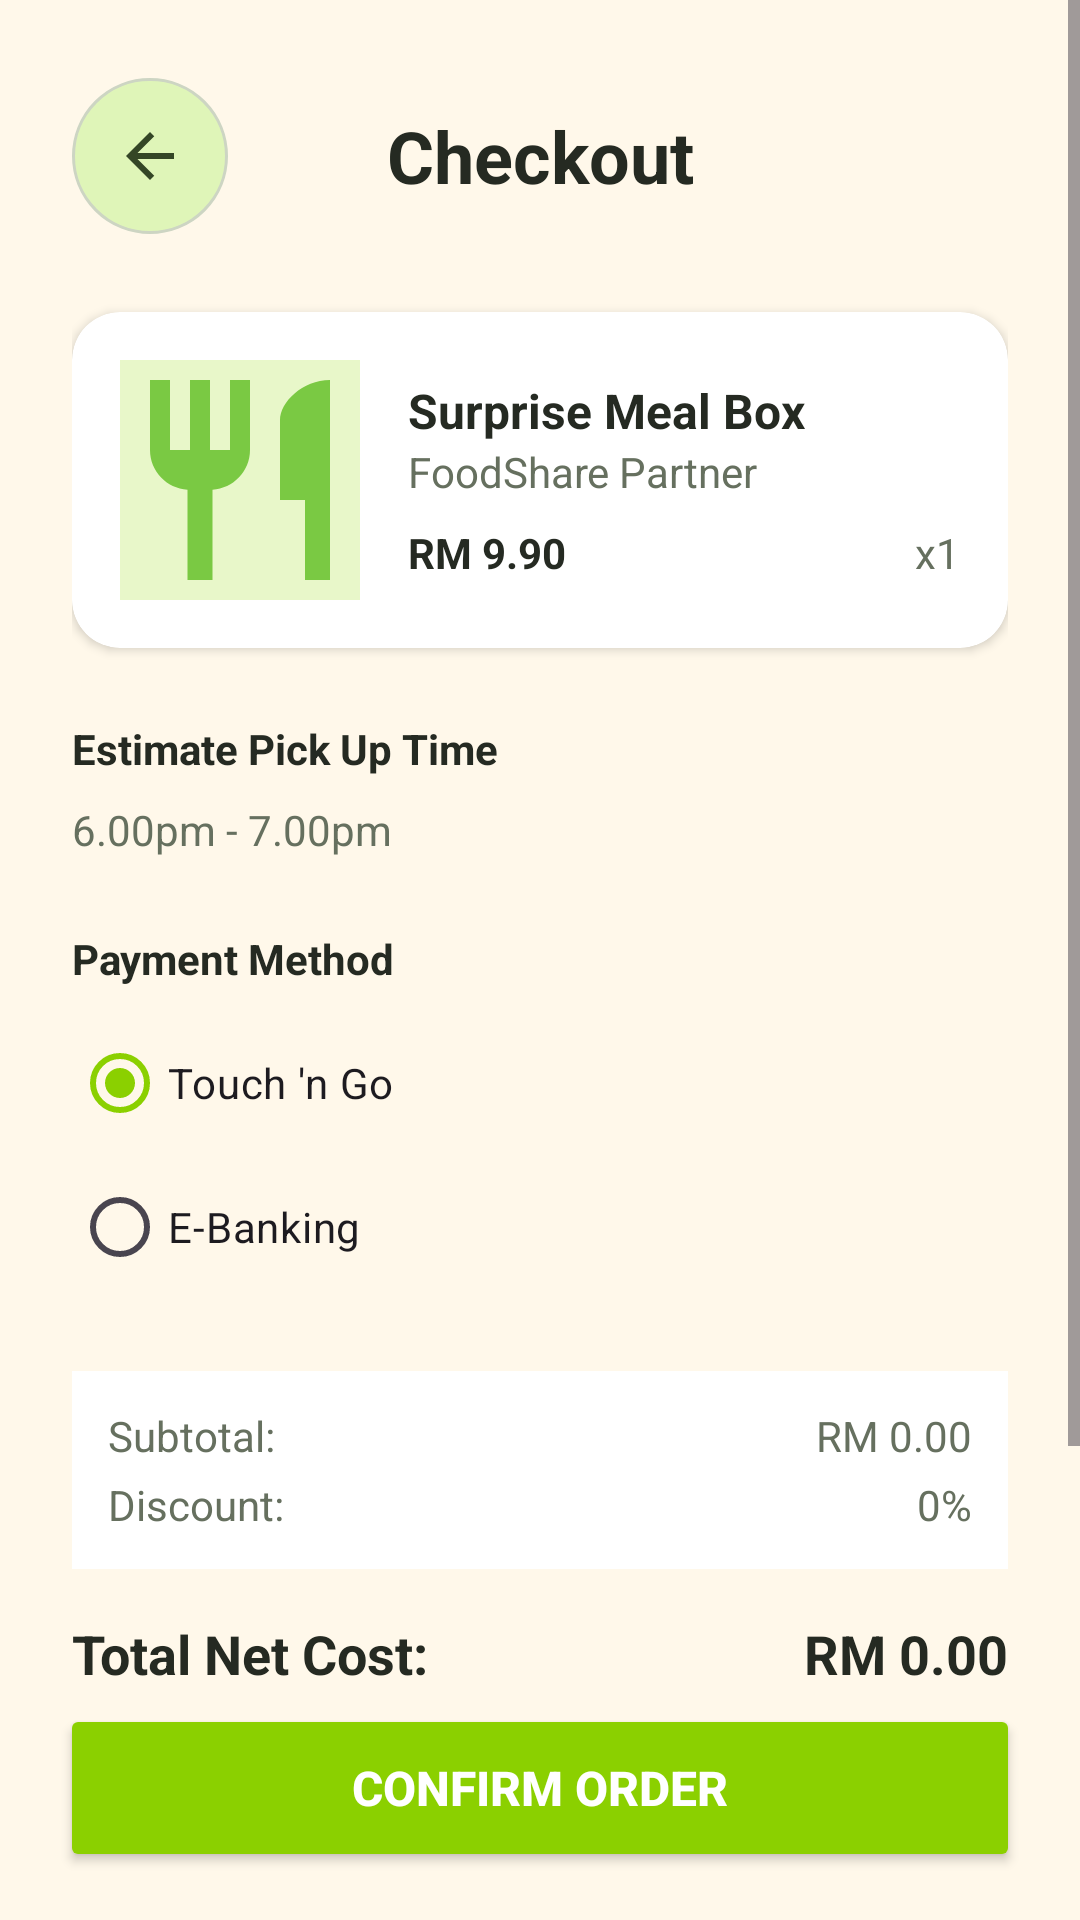

Screen size 1080*1920. Icon name, then its center in pixels as (x,y):
back: (150,156)
